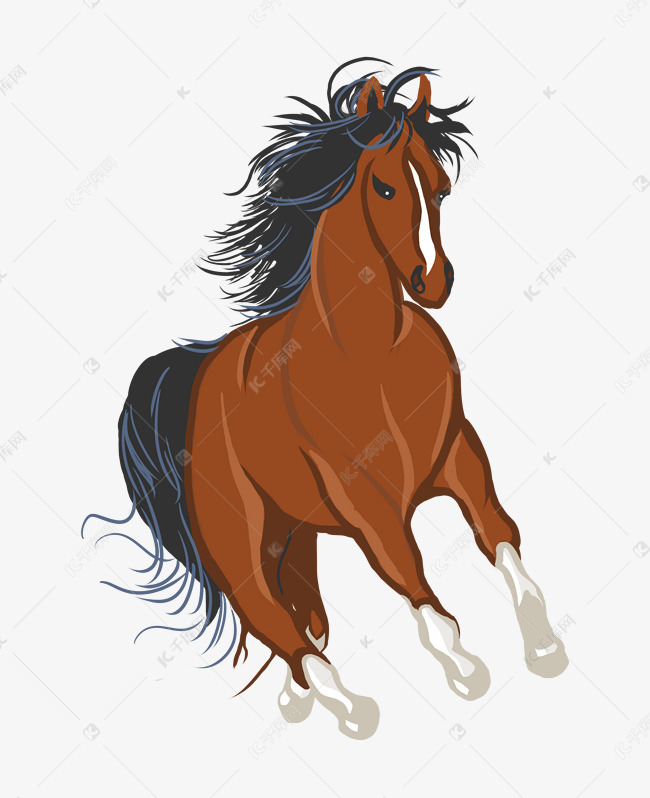background: (71, 45, 581, 747)
